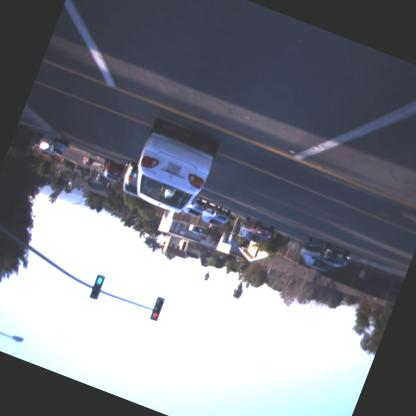trafficlight: (86, 272, 107, 302), (146, 296, 166, 323)
